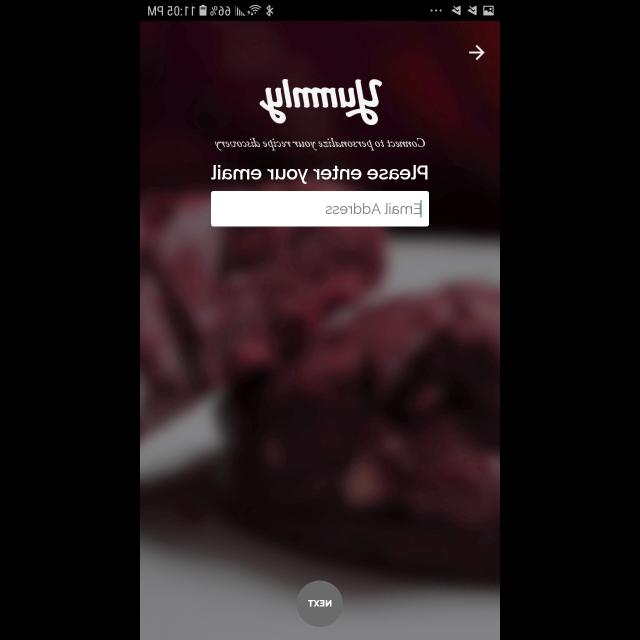backgroundimage: (140, 22, 500, 640)
icon: (468, 44, 484, 61)
image: (260, 78, 382, 125)
input: (211, 191, 429, 227)
text: (210, 165, 428, 185), (215, 137, 425, 151), (326, 203, 420, 214)
textbutton: (297, 580, 343, 628)
uppertaskbar: (140, 1, 500, 22)
